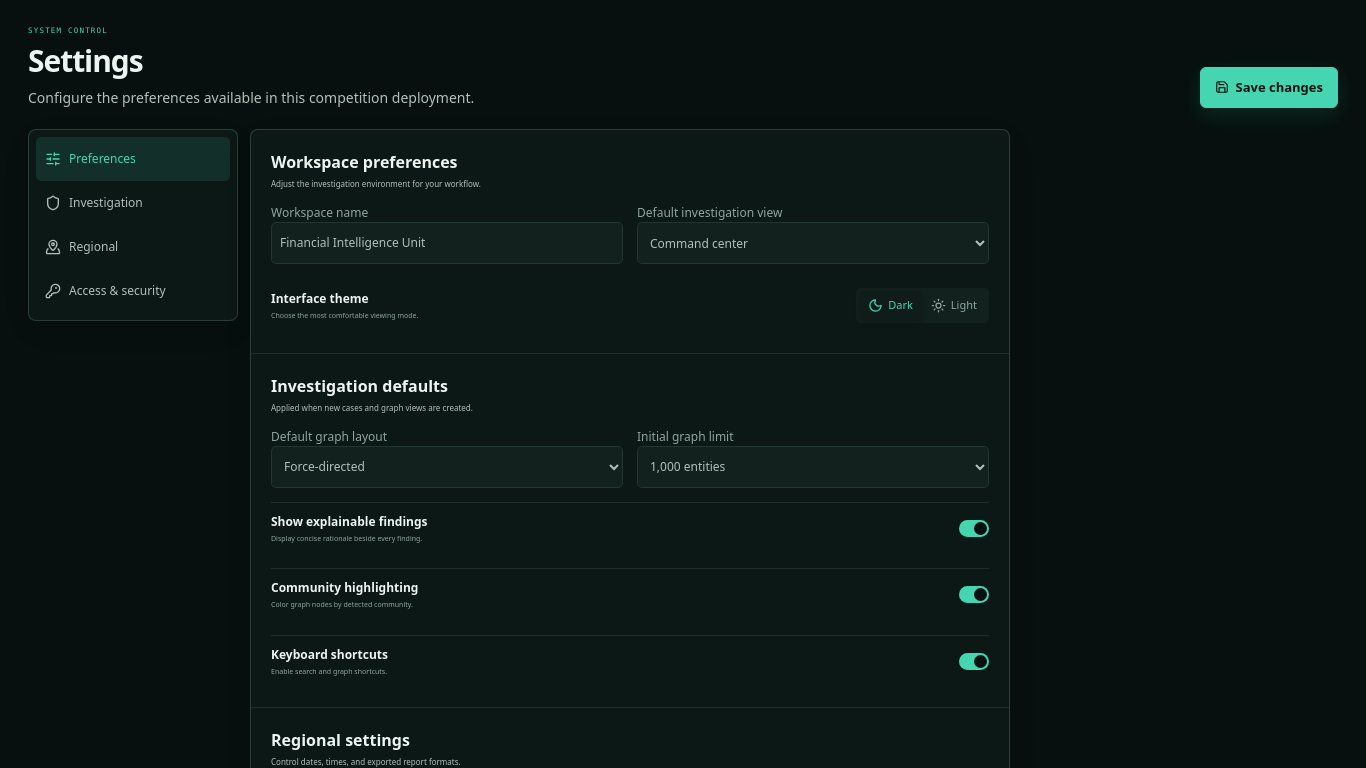
Test: SettingsPage › persists the available competition-workspace preferences
This screenshot has width=1366, height=768.
Replace the text in the field labelled "Workspace name" with "Women Safety Division" at (447, 243), box [271,222,623,264]
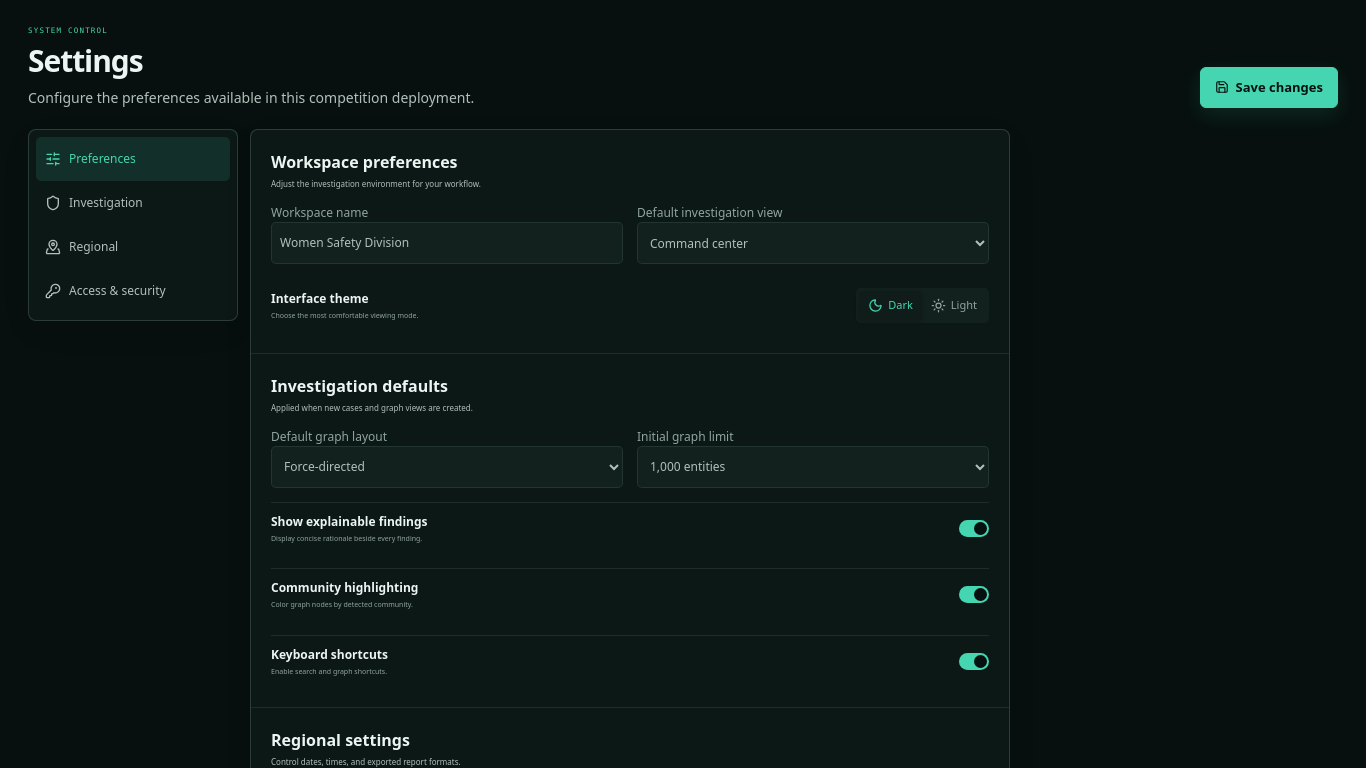
Click the button "Save changes" at (1269, 87), box [1200,66,1338,108]
(page scrolled)
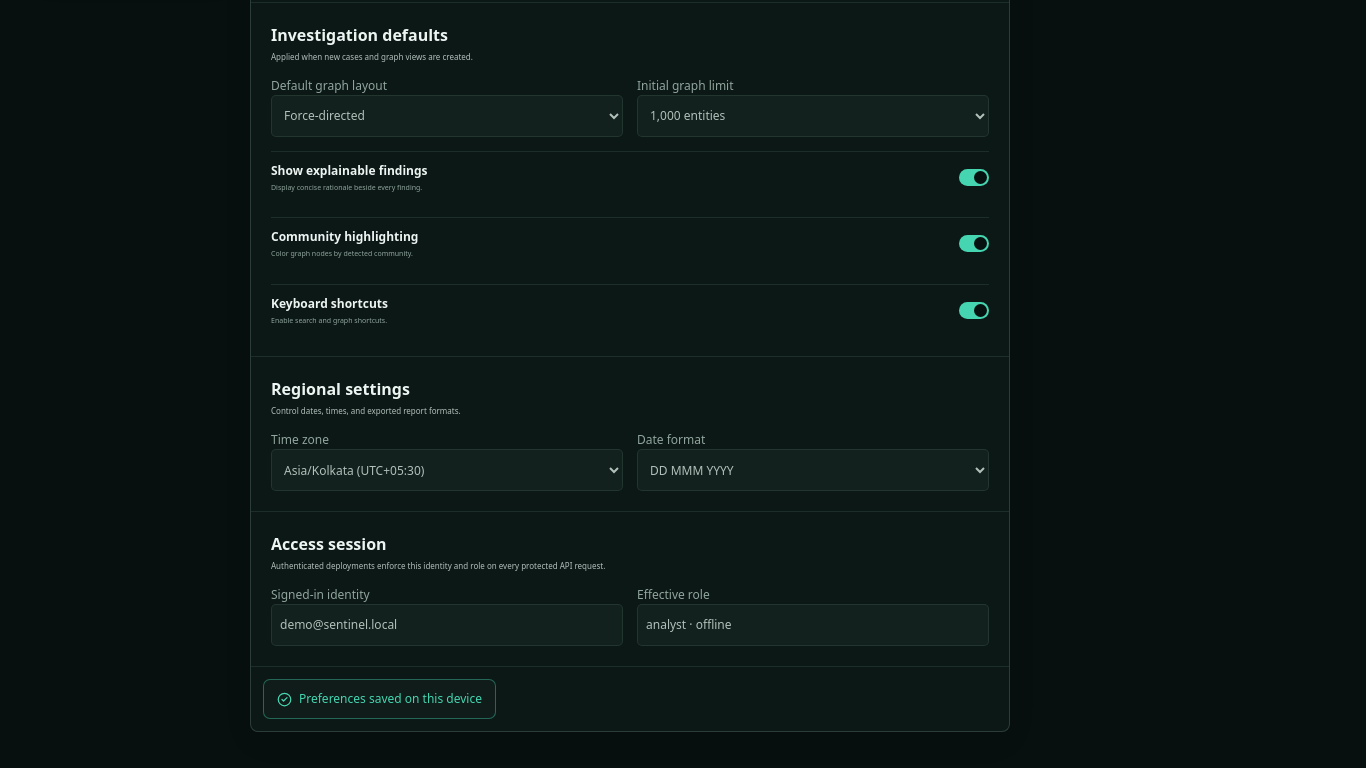
Now the message reads "Preferences saved on this device", box [299,690,482,707]
